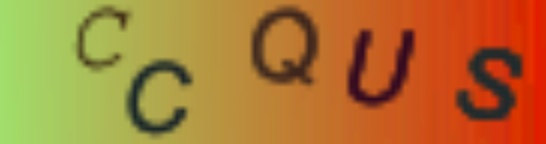C: (124, 56, 197, 142), (73, 4, 132, 70)
Q: (246, 3, 321, 88)
S: (447, 42, 528, 123)
U: (342, 23, 418, 111)
